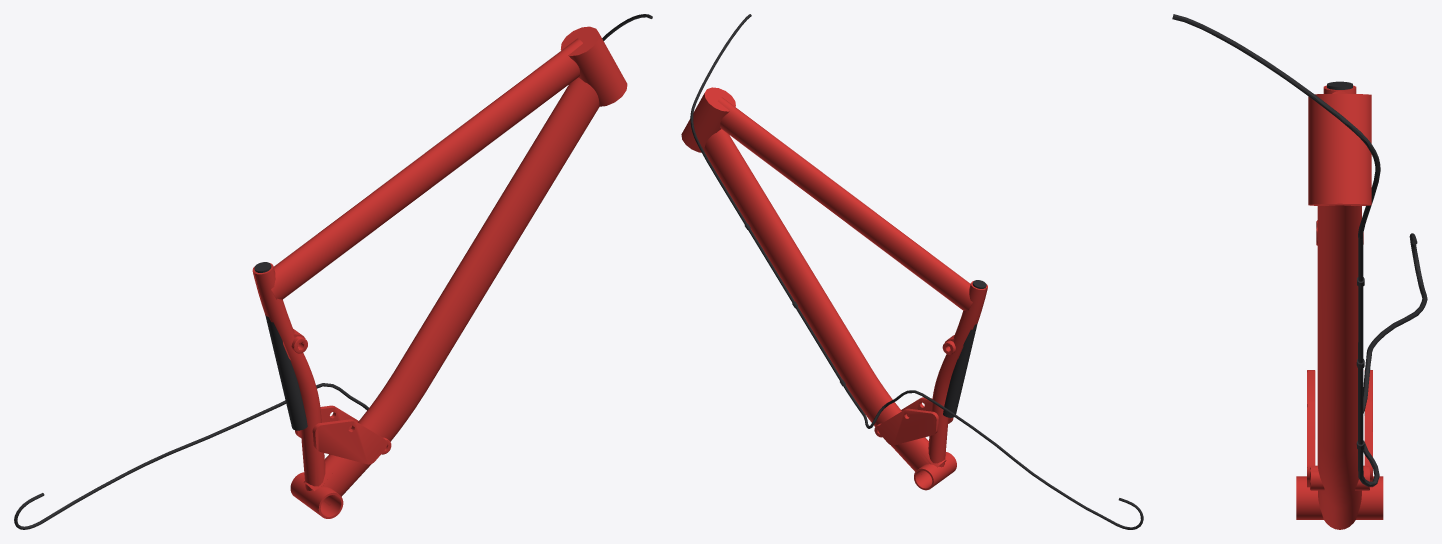
File: dh_frame.glb
3 renders of one model, left to right at view 1: azimuth 30°, elevation 25°; view 2: azimuth 150°, elevation 25°; view 3: azimuth 270°, elevation 25°, orthographic. The views are drawn at different scales.
Visible parts, largest first — view 1: frame; view 2: frame; view 3: frame.
Boxes of the visible parts, left/top/right/bottom form: frame: left=14, top=14, right=652, bottom=529; frame: left=681, top=14, right=1143, bottom=529; frame: left=1172, top=14, right=1427, bottom=529.
Bounding box in the file's own units: 0.9936 × 0.7548 × 0.2432.
